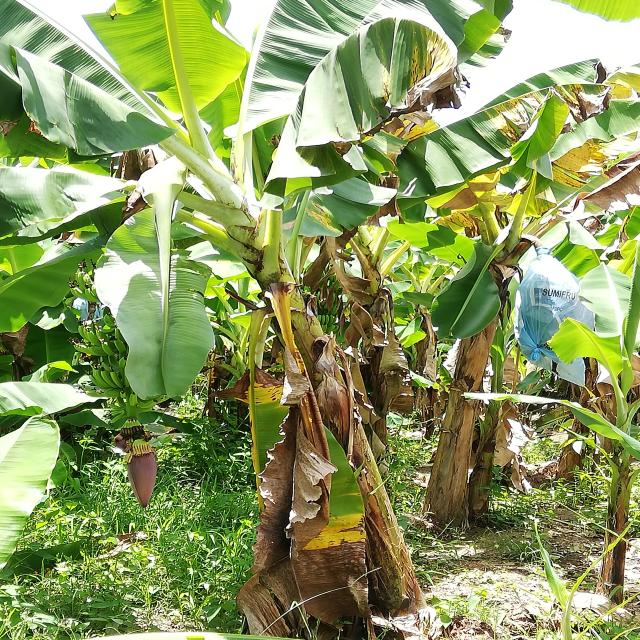Banana-plant: (165, 127, 424, 624), (422, 226, 561, 532)
